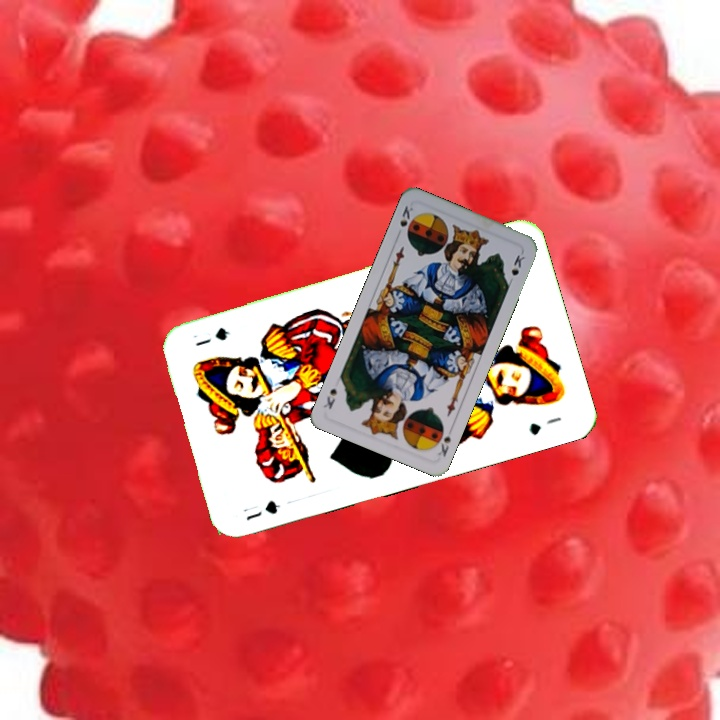GU: (239, 496, 283, 523)
SK: (434, 422, 454, 459), (396, 202, 416, 229)
